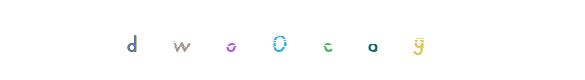0: (239, 0, 319, 80)
C: (250, 0, 330, 80)
D: (144, 0, 224, 80)
G: (379, 0, 459, 80)
O: (218, 0, 298, 80), (252, 0, 332, 80)
W: (159, 0, 239, 80)
